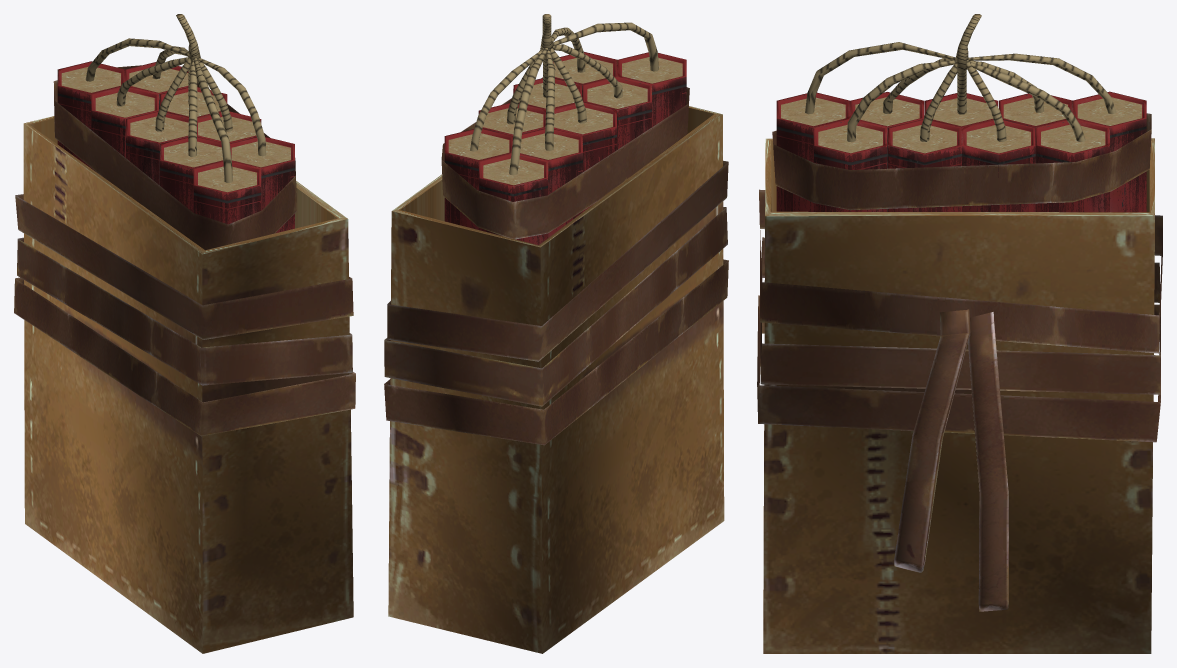
The model's file is сочель.fbx.
The picture shows the model from 3 angles, left to right: view 1: azimuth 30°, elevation 25°; view 2: azimuth 150°, elevation 25°; view 3: azimuth 270°, elevation 25°; orthographic projection. The views are drawn at different scales.
Visible parts, largest first — view 1: сочель; view 2: сочель; view 3: сочель.
Boxes of the visible parts, x1,y1,x2,y2 form: сочель: (14,14,355,653); сочель: (384,14,728,653); сочель: (757,14,1162,653).
Size of the model in its own units: 1383 by 3881 by 2386.
1 material, 1 textured.
